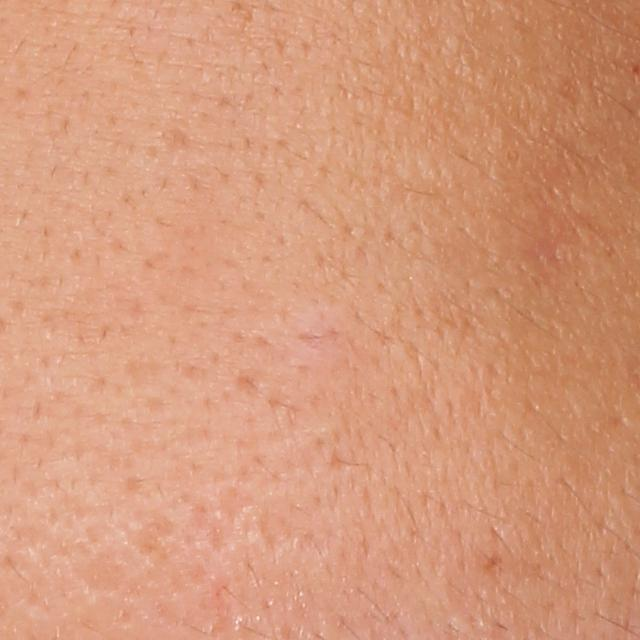atrophic_scar: (70, 547, 136, 604), (237, 369, 268, 396)
